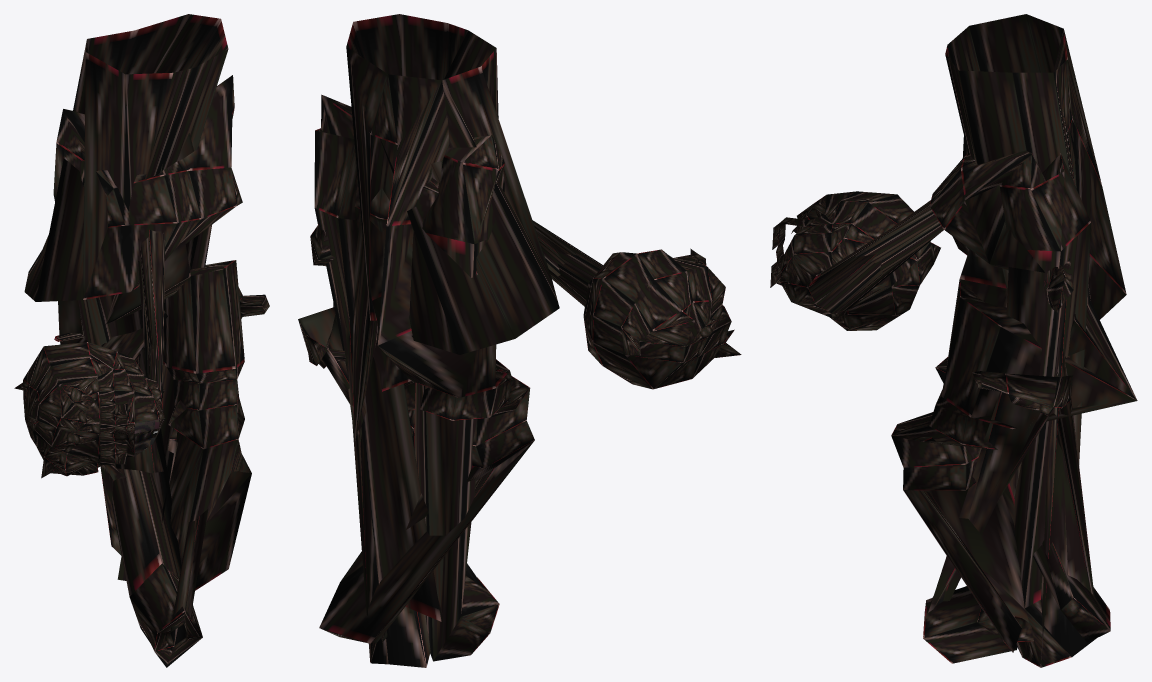
3 views of the same model, side by side, from view 1: azimuth 30°, elevation 25°; view 2: azimuth 150°, elevation 25°; view 3: azimuth 270°, elevation 25° (orthographic). The views are drawn at different scales.
Parts seen in each view (by area): view 1: T1L4M008_4; view 2: T1L4M008_4; view 3: T1L4M008_4.
Boxes of the visible parts, box(x1,y1,x2,y2) form: T1L4M008_4: box(14, 14, 269, 667); T1L4M008_4: box(298, 14, 741, 667); T1L4M008_4: box(770, 14, 1137, 667).
Size of the model in its own units: 0.6757 by 1.27 by 0.6646.
